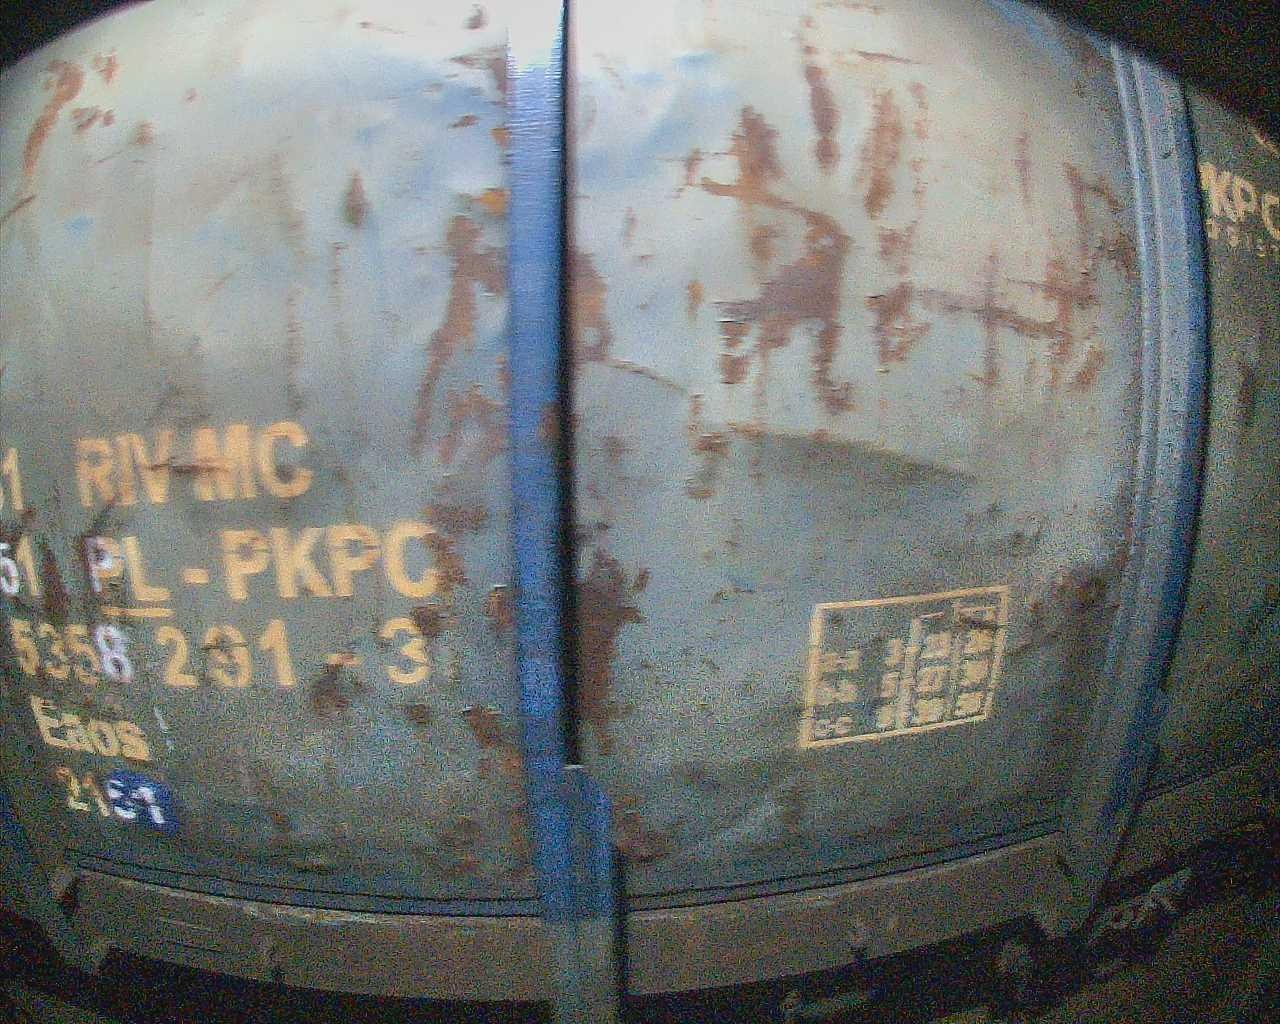UIC: (1, 420, 453, 842)
